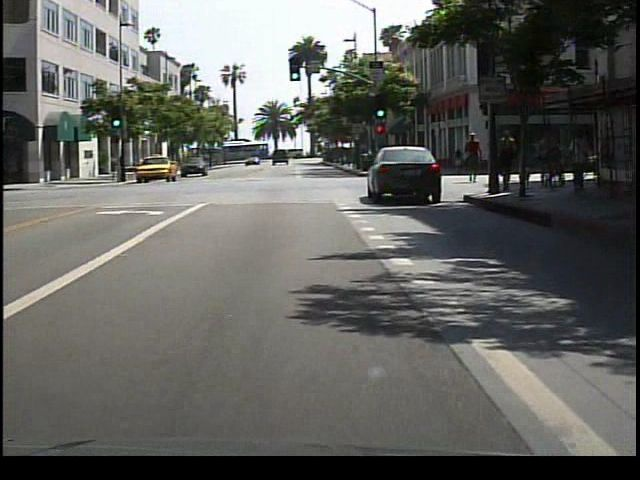person: (464, 131, 488, 189)
